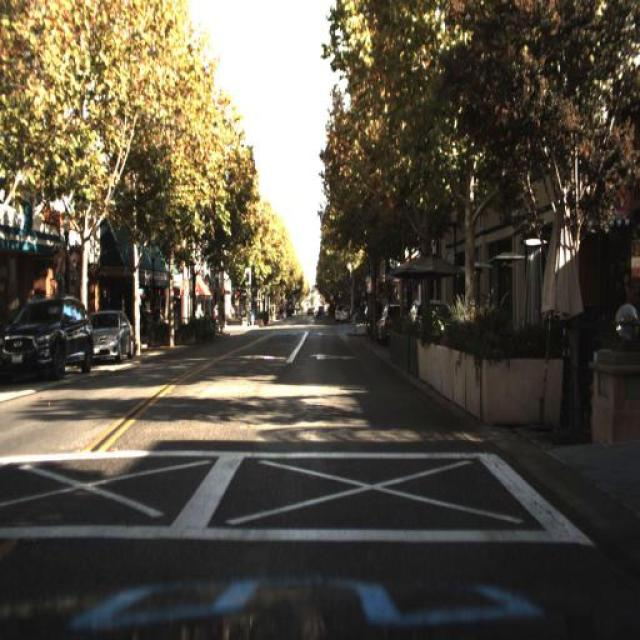car: (2, 293, 94, 381), (82, 306, 138, 376), (404, 291, 457, 349), (372, 300, 407, 346)
trafficLight-RedLeft: (342, 242, 356, 277)
